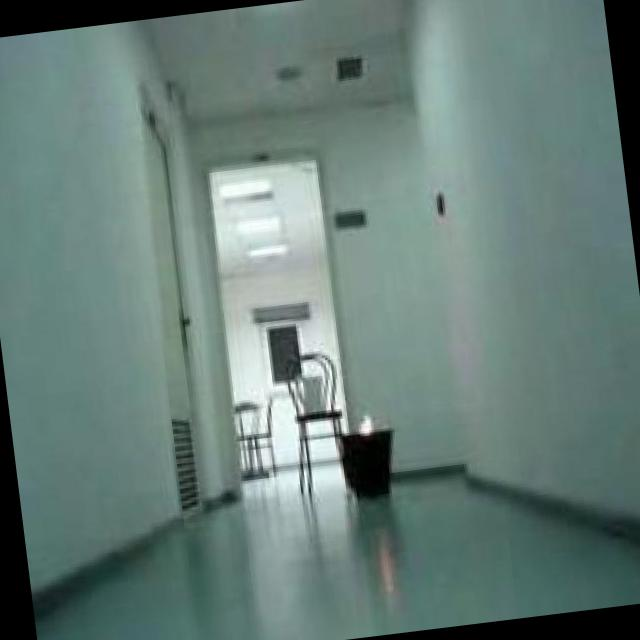Fire: (353, 407, 378, 435)
